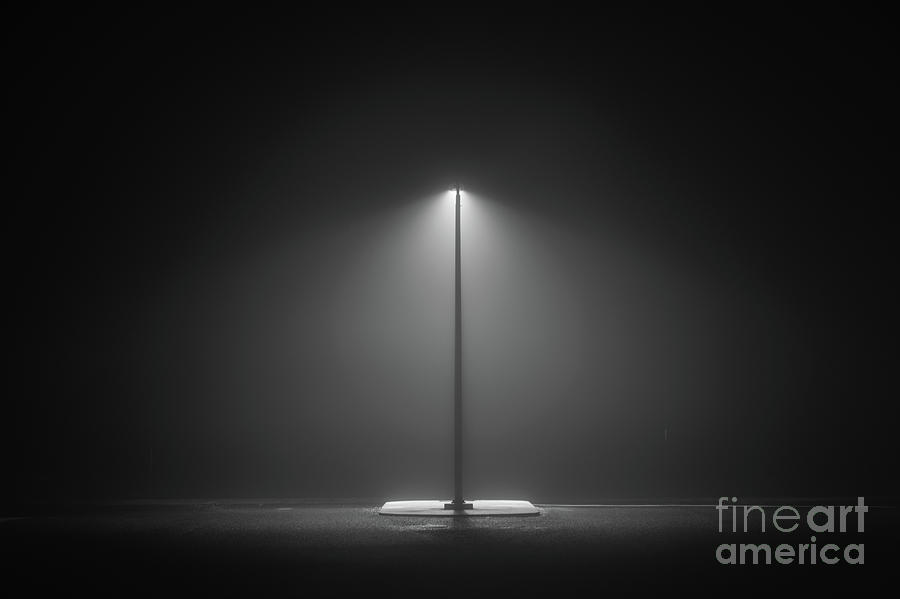Lamp: (362, 166, 542, 525)
